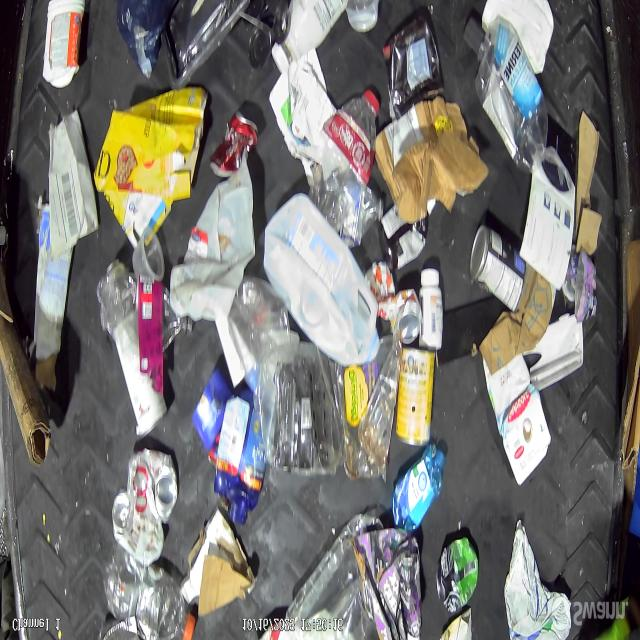can: (469, 221, 528, 309), (395, 346, 435, 450), (112, 488, 164, 568), (374, 266, 420, 340), (439, 539, 477, 619), (212, 115, 258, 181), (128, 454, 174, 520)
milk_jug: (266, 199, 382, 364), (174, 177, 253, 323)
plastic_bottle: (475, 18, 549, 173), (308, 89, 380, 232), (102, 560, 195, 640), (392, 442, 446, 532), (339, 186, 385, 249)
